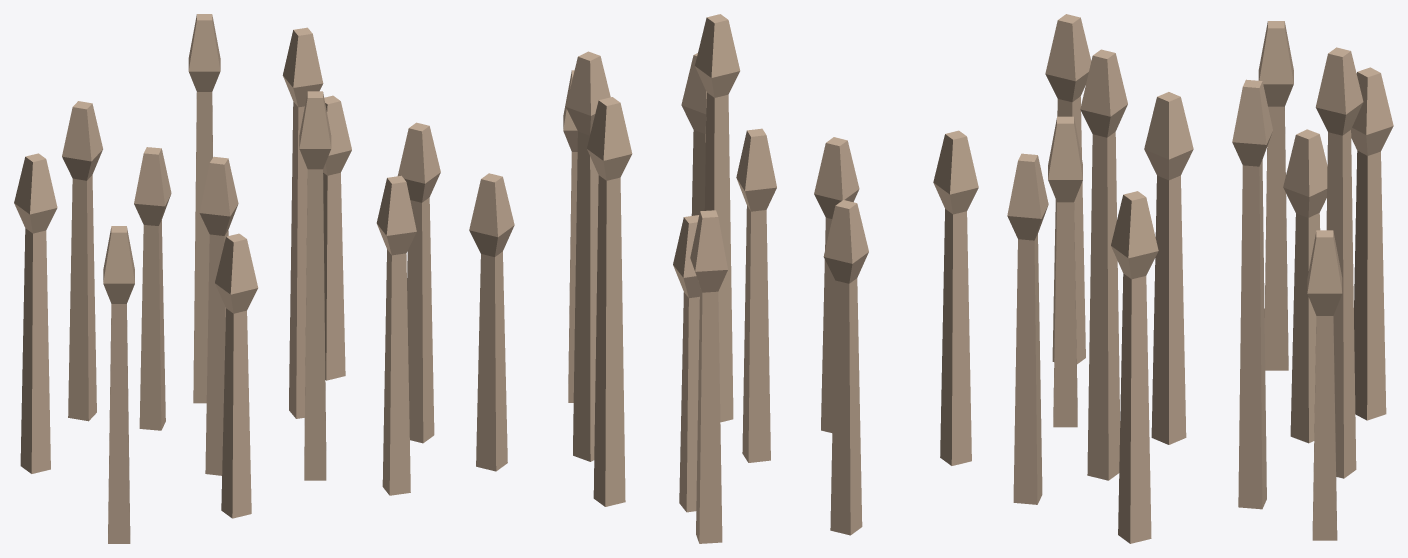
The model's file is crops_wheatStageB.glb.
The picture shows the model from 3 angles, left to right: view 1: azimuth 30°, elevation 25°; view 2: azimuth 150°, elevation 25°; view 3: azimuth 270°, elevation 25°; orthographic projection. The views are drawn at different scales.
Visible parts, largest first — view 1: crops_wheatStageB; view 2: crops_wheatStageB; view 3: crops_wheatStageB.
Part boxes in pixels (<box>): crops_wheatStageB: <box>14,14,440,543</box>; crops_wheatStageB: <box>469,14,978,543</box>; crops_wheatStageB: <box>1007,14,1393,543</box>.
Bounding box in the file's own units: 0.5396 × 0.5349 × 0.4467.
